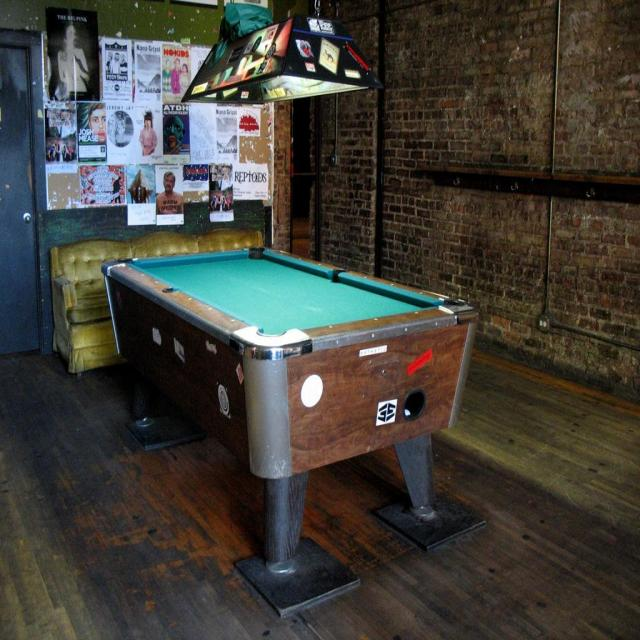Table: (100, 245, 484, 620)
